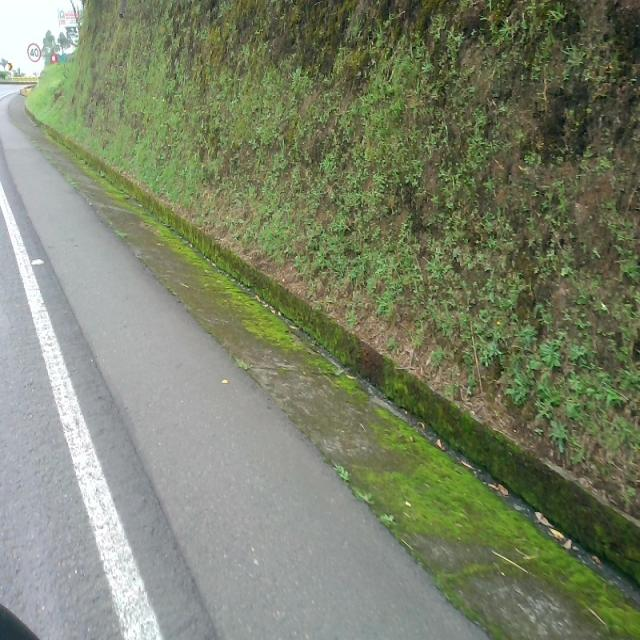DITCH: (4, 83, 638, 638), (137, 528, 220, 597)
